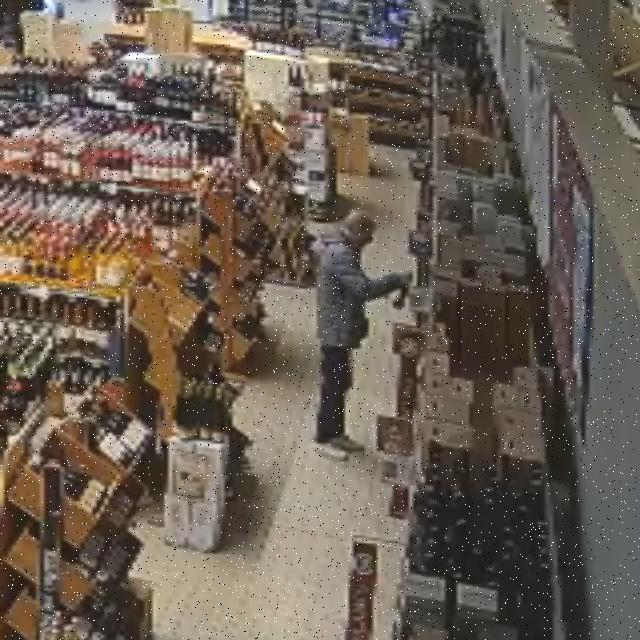article: (393, 284, 407, 309)
hands: (398, 272, 413, 288)
person: (315, 211, 411, 460)
